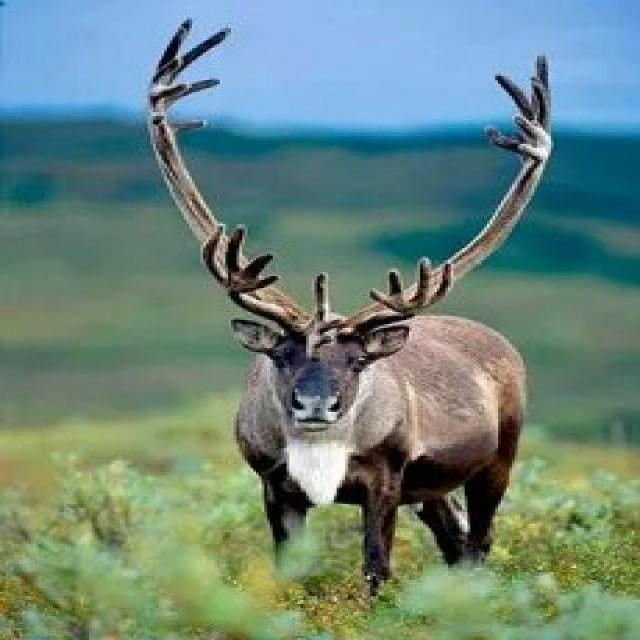deer: (95, 50, 640, 640)
